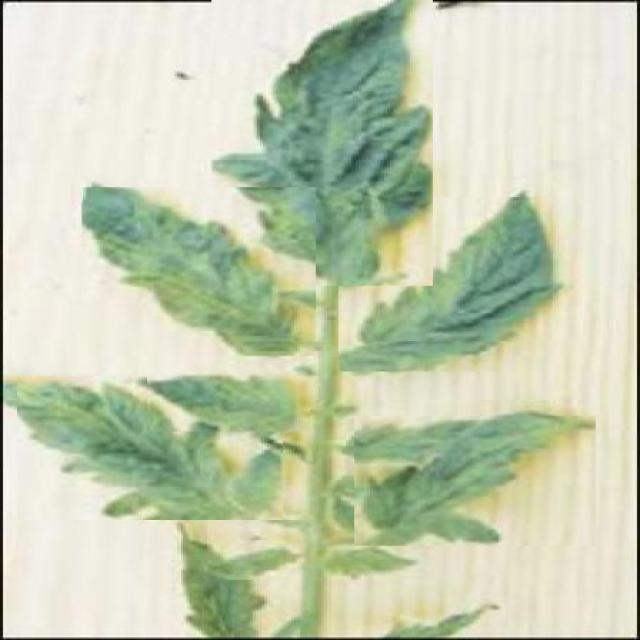Mosaic Virus: (211, 0, 433, 286), (81, 188, 316, 356), (340, 197, 560, 372), (18, 376, 282, 520), (354, 416, 596, 546), (147, 372, 310, 432)
